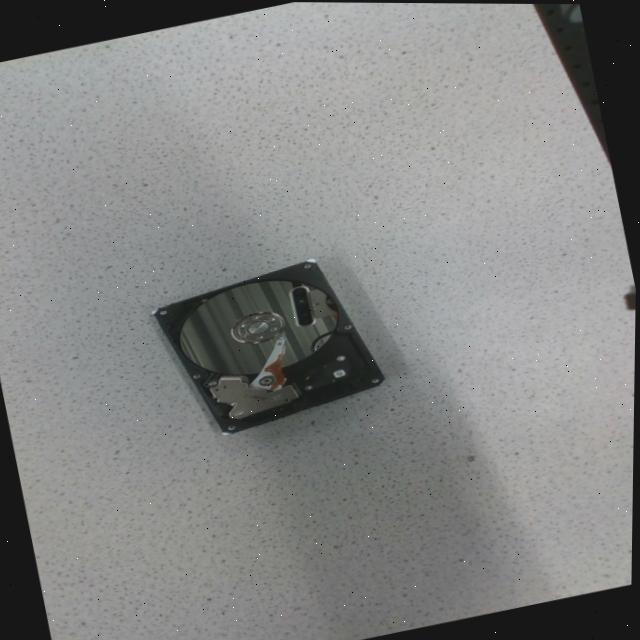actuator arm: (251, 334, 287, 388)
actuator axis: (258, 372, 276, 385)
case: (154, 258, 384, 434)
magnet: (211, 374, 299, 417)
pcb connector: (296, 353, 352, 389)
platter: (181, 280, 339, 374)
platter holder: (231, 311, 285, 342)
screw: (336, 353, 346, 359), (271, 324, 279, 331), (304, 383, 313, 389), (235, 409, 244, 414), (239, 321, 246, 327), (240, 331, 248, 336), (256, 333, 264, 338), (269, 315, 277, 320), (253, 313, 260, 318)
